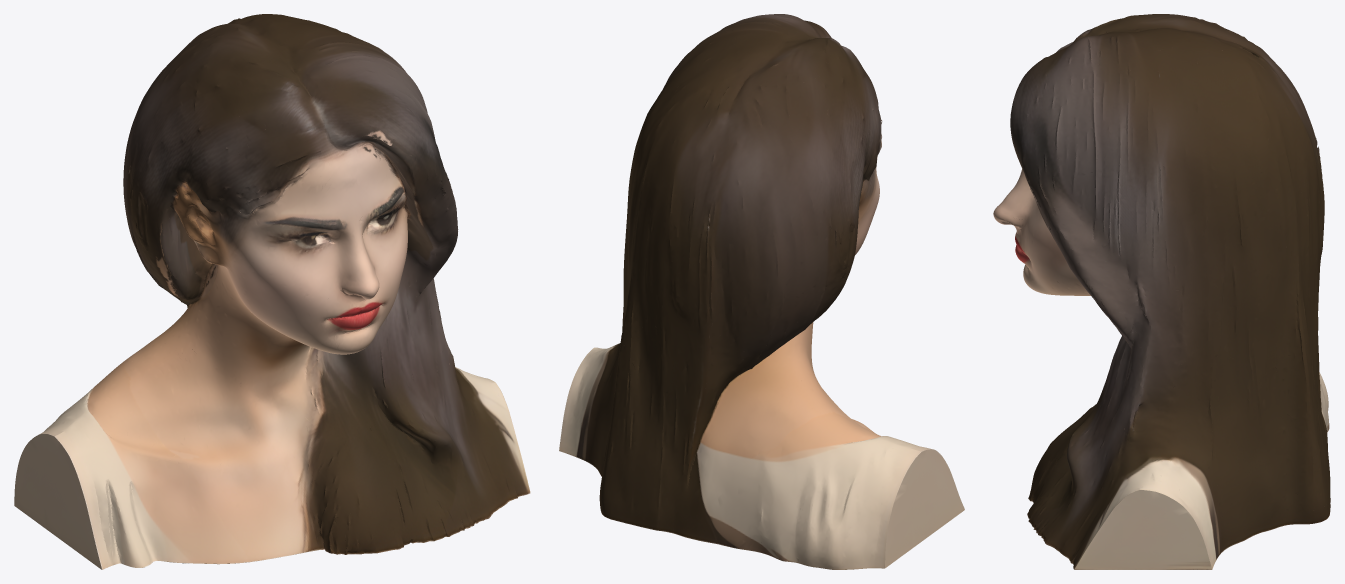
3 views of the same model, side by side, from view 1: azimuth 30°, elevation 25°; view 2: azimuth 150°, elevation 25°; view 3: azimuth 270°, elevation 25° (orthographic). The views are drawn at different scales.
Visible parts, largest first — view 1: model; view 2: model; view 3: model.
Boxes of the visible parts, x1,y1,x2,y2 form: model: [14, 14, 530, 569]; model: [559, 14, 964, 569]; model: [993, 14, 1330, 569].
Bounding box in the file's own units: 1.66 × 1.89 × 1.29.
1 material, 1 textured.
